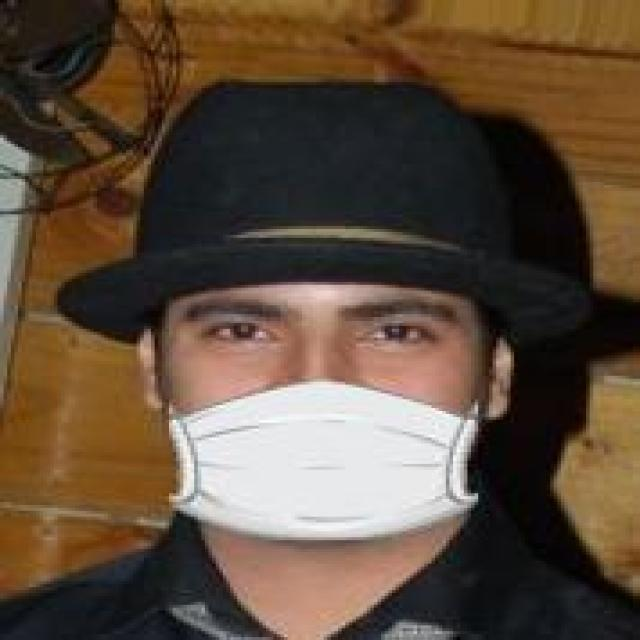mask: (79, 94, 579, 567)
